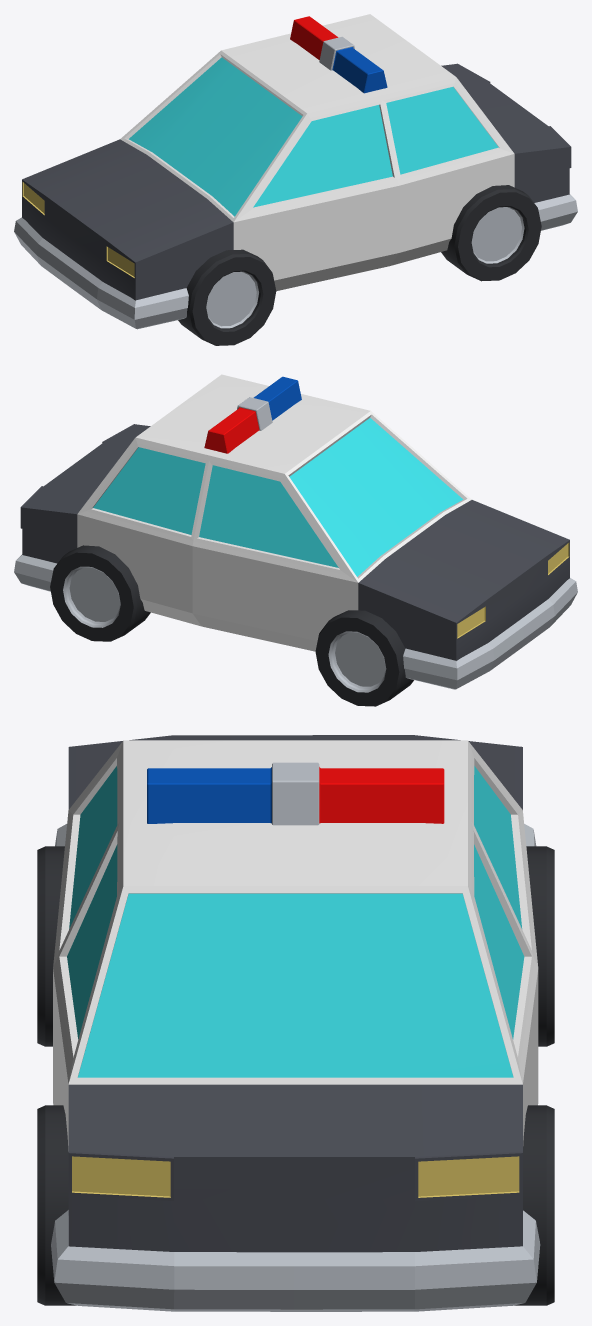
File: car_police_geo.fbx
3 views of the same model, one above another, from view 1: azimuth 30°, elevation 25°; view 2: azimuth 150°, elevation 25°; view 3: azimuth 270°, elevation 25° (orthographic). The views are drawn at different scales.
Visible parts, largest first — view 1: car_police; view 2: car_police; view 3: car_police.
Boxes of the visible parts, x1=… form: car_police: x1=14, y1=14, x2=577, y2=345; car_police: x1=14, y1=374, x2=577, y2=706; car_police: x1=37, y1=735, x2=554, y2=1311.
Bounding box in the file's own units: 6.93 × 3.11 × 3.39.
